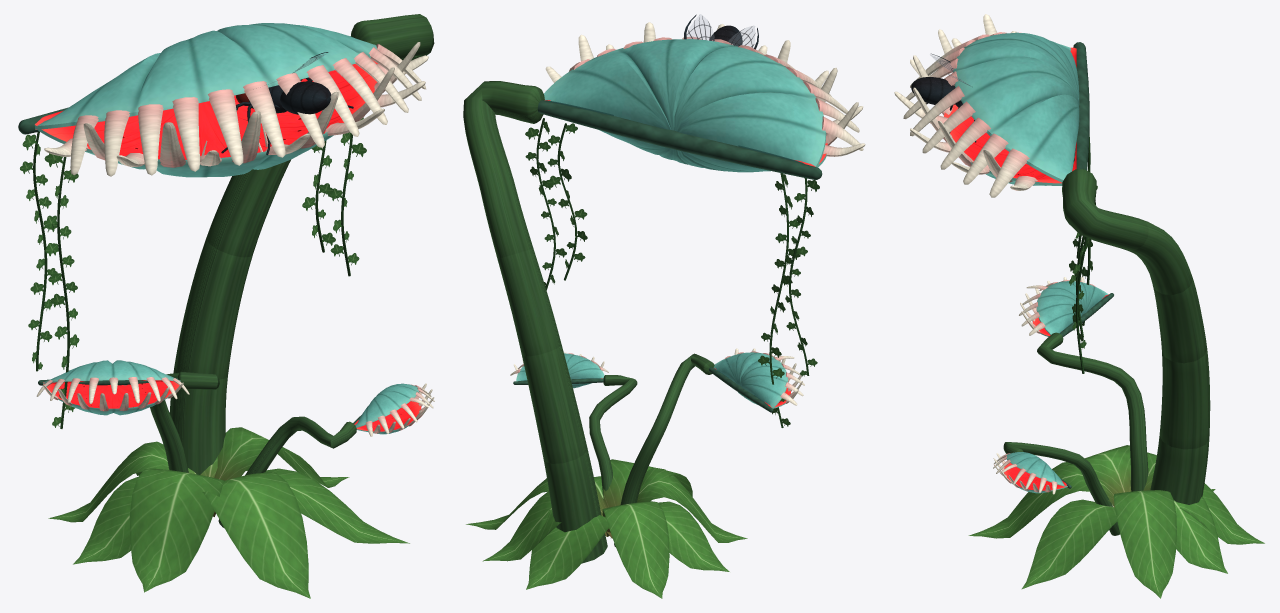
Rendered from venus-flytrap.glb.
3 views of the same model, side by side, from view 1: azimuth 30°, elevation 25°; view 2: azimuth 150°, elevation 25°; view 3: azimuth 270°, elevation 25° (orthographic). The views are drawn at different scales.
Parts seen in each view (by area): view 1: venus_flytrap, lobe_upper, lobe_lower, stem_1, vines_L, stem_2, stem_0, trap_small_1_upper, trap_small_1_lower, stem_4, vines_R, fly (+2 smaller); view 2: lobe_upper, venus_flytrap, trap, stem_1, stem_2, lobe_lower, stem_4, stem_3, stem_0, vines_L, trap_small_1_upper, vines_R (+2 smaller); view 3: venus_flytrap, lobe_upper, stem_1, lobe_lower, stem_4, stem_2, stem_0, trap_small_1_upper, stem_3, trap, trap_small_2_upper, vines_R (+2 smaller).
Part boxes in pixels (x1,y1,x2,y2): venus_flytrap: (48, 371, 409, 598); lobe_upper: (35, 23, 426, 176); lobe_lower: (34, 42, 428, 177); stem_1: (174, 239, 252, 379); vines_L: (20, 131, 79, 428); stem_2: (206, 159, 291, 257); stem_0: (169, 367, 227, 474); trap_small_1_upper: (36, 360, 189, 403); trap_small_1_lower: (43, 381, 183, 415); stem_4: (350, 14, 434, 60); vines_R: (302, 117, 366, 276); fly: (221, 77, 353, 155); lobe_upper: (544, 36, 863, 167); venus_flytrap: (466, 353, 747, 598); trap: (537, 100, 822, 179); stem_1: (521, 345, 587, 463); stem_2: (497, 248, 561, 356); lobe_lower: (544, 22, 865, 172); stem_4: (463, 81, 544, 164); stem_3: (473, 150, 533, 258); stem_0: (543, 449, 607, 563); vines_L: (758, 173, 819, 427); trap_small_1_upper: (713, 351, 804, 408); vines_R: (525, 118, 587, 290); venus_flytrap: (968, 332, 1264, 598); lobe_upper: (903, 32, 1079, 197); stem_1: (1159, 349, 1210, 449); lobe_lower: (894, 14, 1076, 190); stem_4: (1062, 169, 1148, 250); stem_2: (1152, 279, 1207, 363); stem_0: (1150, 436, 1209, 504); trap_small_1_upper: (1019, 280, 1108, 335); stem_3: (1129, 219, 1192, 294); trap: (1073, 42, 1089, 170); trap_small_2_upper: (993, 452, 1067, 494); vines_R: (1069, 186, 1097, 373).
Size of the model in its own units: 3.4 by 4.15 by 3.
Materials: 8 (8 with a texture image).
